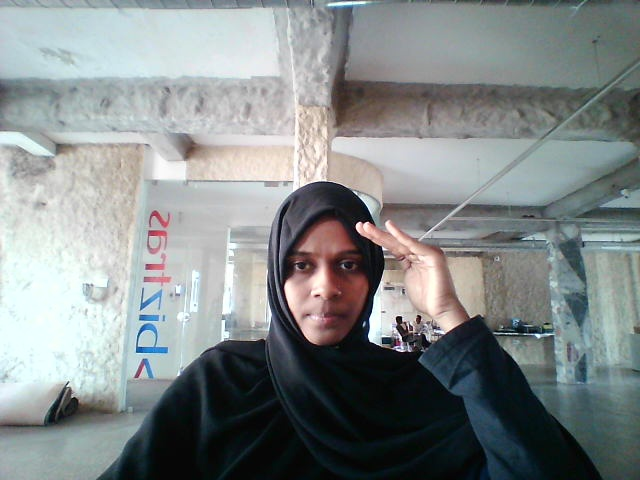HELLO: (349, 209, 537, 356)
